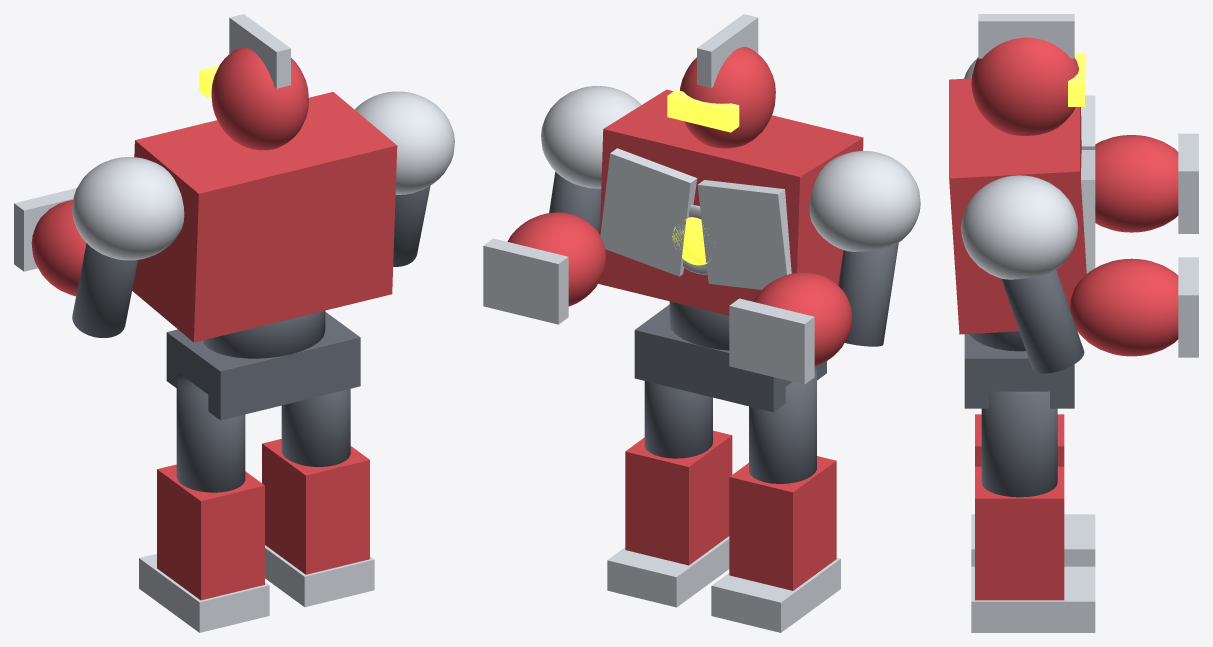
Rendered from robot_rival.glb.
3 renders of one model, left to right at view 1: azimuth 30°, elevation 25°; view 2: azimuth 150°, elevation 25°; view 3: azimuth 270°, elevation 25°, orthographic. The views are drawn at different scales.
Visible parts, largest first — view 1: Pecho_Blindado, Espinilla_-1, Espinilla_1, Cadera_Robot, Hombrera_-1, Cabeza_Robot, Muslo_-1, Hombrera_1, Muslo_1, Pie_Robot_-1, Brazo_Sup_-1, Pie_Robot_1 (+5 smaller); view 2: Pecho_Blindado, Espinilla_-1, Espinilla_1, Hombrera_-1, Pectoral_Der, Pectoral_Izq, Cadera_Robot, Hombrera_1, Nudillo_Riv_-1, Nudillo_Riv_1, Muslo_-1, Cabeza_Robot (+11 smaller); view 3: Pecho_Blindado, Espinilla_1, Hombrera_1, Guante_Riv_1, Cabeza_Robot, Muslo_1, Guante_Riv_-1, Brazo_Sup_1, Pie_Robot_1, Cadera_Robot, Cresta_Casco, Nudillo_Riv_1 (+7 smaller).
Boxes of the visible parts, left/top/right/bottom form: Pecho_Blindado: left=132, top=92, right=397, bottom=342; Espinilla_-1: left=157, top=464, right=264, bottom=600; Espinilla_1: left=262, top=439, right=369, bottom=574; Cadera_Robot: left=166, top=312, right=360, bottom=420; Hombrera_-1: left=72, top=157, right=184, bottom=260; Cabeza_Robot: left=211, top=47, right=308, bottom=150; Muslo_-1: left=176, top=373, right=245, bottom=492; Hombrera_1: left=355, top=91, right=454, bottom=194; Muslo_1: left=281, top=389, right=350, bottom=466; Pie_Robot_-1: left=139, top=553, right=269, bottom=632; Brazo_Sup_-1: left=72, top=243, right=137, bottom=337; Pie_Robot_1: left=265, top=545, right=374, bottom=607; Pecho_Blindado: left=598, top=89, right=863, bottom=315; Espinilla_-1: left=729, top=456, right=836, bottom=590; Espinilla_1: left=625, top=430, right=732, bottom=565; Hombrera_-1: left=809, top=151, right=920, bottom=251; Pectoral_Der: left=600, top=148, right=697, bottom=276; Pectoral_Izq: left=697, top=180, right=791, bottom=289; Cadera_Robot: left=634, top=304, right=826, bottom=412; Hombrera_1: left=541, top=86, right=641, bottom=188; Nudillo_Riv_-1: left=729, top=298, right=814, bottom=384; Nudillo_Riv_1: left=483, top=238, right=568, bottom=324; Muslo_-1: left=749, top=366, right=816, bottom=483; Cabeza_Robot: left=680, top=47, right=775, bottom=148; Pecho_Blindado: left=949, top=78, right=1086, bottom=334; Espinilla_1: left=975, top=466, right=1064, bottom=600; Hombrera_1: left=961, top=175, right=1078, bottom=279; Guante_Riv_1: left=1069, top=258, right=1178, bottom=356; Cabeza_Robot: left=971, top=37, right=1079, bottom=135; Muslo_1: left=981, top=391, right=1057, bottom=497; Guante_Riv_-1: left=1095, top=135, right=1178, bottom=232; Brazo_Sup_1: left=1001, top=269, right=1084, bottom=373; Pie_Robot_1: left=971, top=566, right=1095, bottom=632; Cadera_Robot: left=964, top=334, right=1074, bottom=408; Cresta_Casco: left=978, top=14, right=1074, bottom=58; Nudillo_Riv_1: left=1178, top=257, right=1198, bottom=357.
Size of the model in its own units: 2.52 by 3.66 by 1.45.
